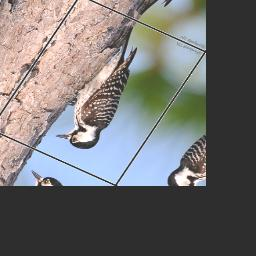Woodpecker: (43, 17, 171, 158)
